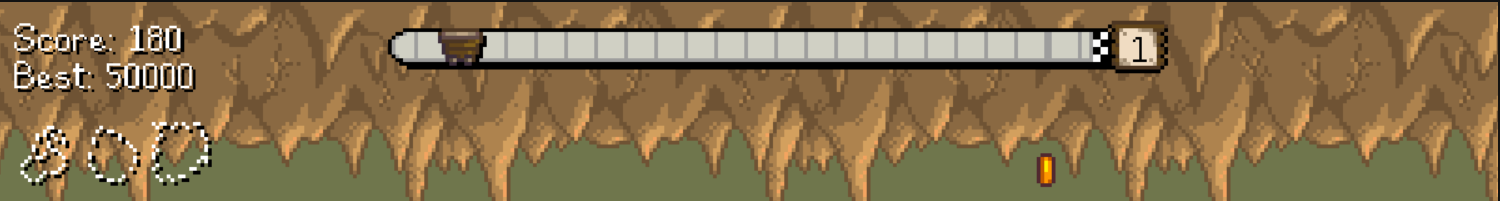score: (125, 16, 188, 54)
